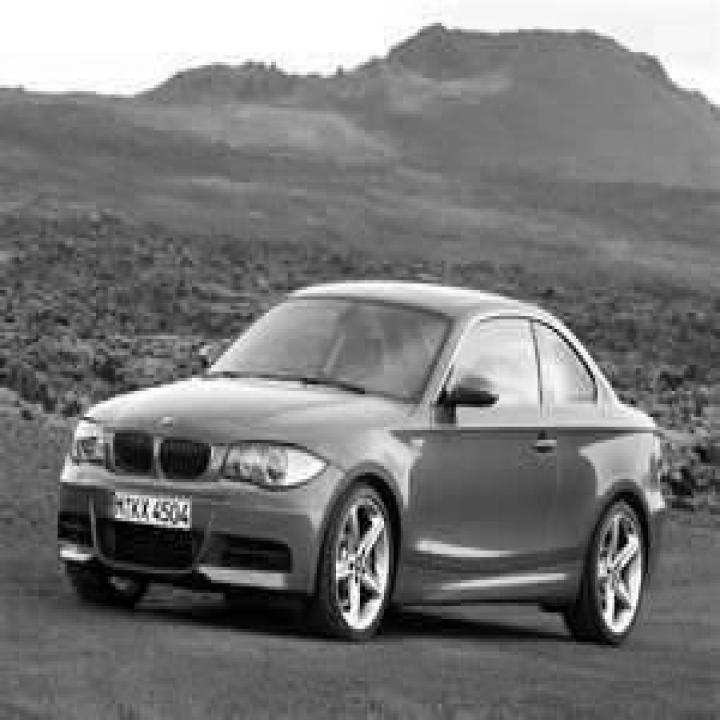car: (55, 277, 667, 645)
plat: (108, 488, 192, 532)
